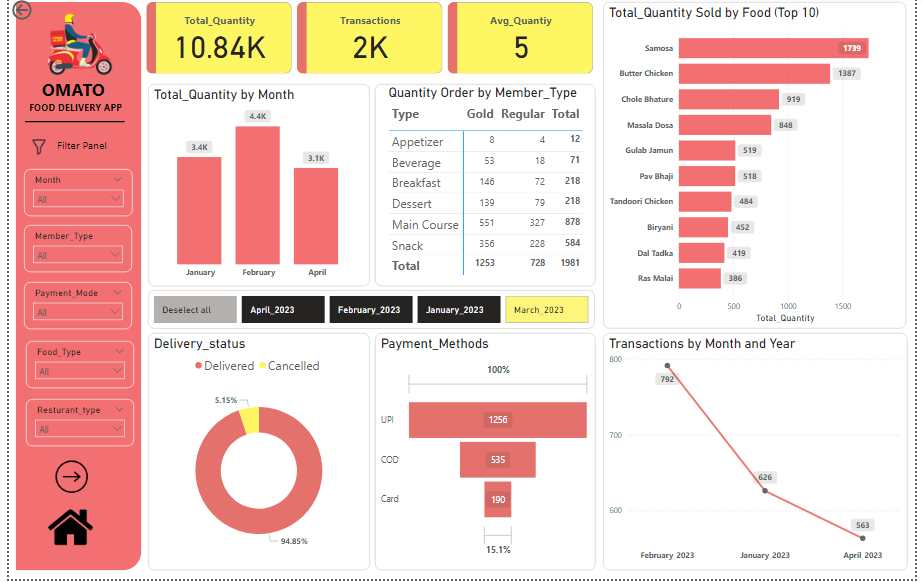

This screenshot's page, from the dashboard's own definition file:
{"tool":"powerbi","page":{"name":"Page 1","canvas":[1280,720],"ordinal":0},"visuals":[{"type":"shape","box":[8.1,8.1,166.3,701.2],"z":0},{"type":"image","box":[7.9,9,158.3,132.3],"z":1000},{"type":"textbox","box":[12.8,116.3,158.1,70.9],"z":2000},{"type":"shape","box":[12.8,173.3,158.1,29.1],"z":3000},{"type":"cardVisual","fields":{"Data":["Sales Data.Total_Quantity","Sales Data.Transactions","Sales Data.Avg_Quantity"]},"box":[181.4,9.3,539.5,103.5],"z":4000},{"type":"clusteredColumnChart","fields":{"Y":["Sales Data.Total_Quantity"],"Category":["Sales Data.orderDate.Variation.Date Hierarchy.Month"]},"box":[184.9,110.5,258.1,289.5],"z":5000},{"type":"pivotTable","title":"Transactions by Food type & Member Type","fields":{"Rows":["Food_Details.Type"],"Columns":["Customer Details.member_Type"],"Values":["Sales Data.Transactions"]},"box":[451.5,111.1,269,289.5],"z":6000},{"type":"donutChart","fields":{"Category":["Sales Data.deliver_status"],"Y":["Sales Data.Transactions"]},"box":[185.2,455.6,258,253.9],"z":7000},{"type":"funnel","fields":{"Category":["Sales Data.payment_method"],"Y":["Sales Data.Transactions"]},"box":[451.5,455.6,269,253.9],"z":8000},{"type":"clusteredBarChart","fields":{"Y":["Sales Data.Total_Quantity"],"Category":["Food_Details.Food"]},"box":[734.9,9.3,533.7,445.4],"z":9000},{"type":"lineChart","fields":{"Y":["Sales Data.Transactions"],"Category":["Sales Data.orderDate.Variation.Date Hierarchy.Year","Sales Data.orderDate.Variation.Date Hierarchy.Month"]},"box":[735.5,467.9,533.8,241.5],"z":10000},{"type":"slicer","fields":{"Values":["Sales Data.orderDate.Variation.Date Hierarchy.Month"]},"box":[20.6,231.9,141.3,76.8],"z":11000},{"type":"slicer","fields":{"Values":["Customer Details.member_Type"]},"box":[20.6,323.8,141.3,76.8],"z":12000},{"type":"slicer","fields":{"Values":["Sales Data.payment_method"]},"box":[20.6,417.2,141.3,76.8],"z":13000},{"type":"slicer","fields":{"Values":["Resturant_Details.Resturant_type"]},"box":[20.6,511.8,141.3,76.8],"z":14000},{"type":"slicer","fields":{"Values":["Sales Data.orderDate.Variation.Date Hierarchy.Month"]},"box":[180.9,402.5,539.3,53.1],"z":15000},{"type":"image","box":[24.7,194.9,37,31.6],"z":16000},{"type":"textbox","box":[61.7,194.9,123.5,37],"z":17000},{"type":"image","box":[43.9,649.1,64.5,60.4],"z":18000},{"type":"image","box":[46.7,587.3,67.2,67.2],"z":18001}]}

Visuals, with their boxes in screenshot pixels (x1, y1, x2, y2):
shape: {"left": 15, "top": 13, "right": 133, "bottom": 511}
image: {"left": 15, "top": 14, "right": 128, "bottom": 108}
textbox: {"left": 19, "top": 90, "right": 131, "bottom": 140}
shape: {"left": 19, "top": 130, "right": 131, "bottom": 151}
cardVisual - Sales Data.Total_Quantity x Sales Data.Transactions: {"left": 138, "top": 14, "right": 522, "bottom": 87}
clusteredColumnChart - Sales Data.Total_Quantity x Sales Data.orderDate.Variation.Date Hierarchy.Month: {"left": 141, "top": 86, "right": 324, "bottom": 291}
"Transactions by Food type & Member Type" pivotTable: {"left": 330, "top": 86, "right": 521, "bottom": 292}
donutChart - Sales Data.deliver_status x Sales Data.Transactions: {"left": 141, "top": 331, "right": 324, "bottom": 511}
funnel - Sales Data.payment_method x Sales Data.Transactions: {"left": 330, "top": 331, "right": 521, "bottom": 511}
clusteredBarChart - Sales Data.Total_Quantity x Food_Details.Food: {"left": 532, "top": 14, "right": 911, "bottom": 330}
lineChart - Sales Data.Transactions x Sales Data.orderDate.Variation.Date Hierarchy.Year: {"left": 532, "top": 340, "right": 911, "bottom": 511}
slicer - Sales Data.orderDate.Variation.Date Hierarchy.Month: {"left": 24, "top": 172, "right": 125, "bottom": 226}
slicer - Customer Details.member_Type: {"left": 24, "top": 237, "right": 125, "bottom": 292}
slicer - Sales Data.payment_method: {"left": 24, "top": 304, "right": 125, "bottom": 358}
slicer - Resturant_Details.Resturant_type: {"left": 24, "top": 371, "right": 125, "bottom": 425}
slicer - Sales Data.orderDate.Variation.Date Hierarchy.Month: {"left": 138, "top": 293, "right": 521, "bottom": 331}
image: {"left": 27, "top": 146, "right": 53, "bottom": 168}
textbox: {"left": 53, "top": 146, "right": 141, "bottom": 172}
image: {"left": 41, "top": 468, "right": 87, "bottom": 511}
image: {"left": 43, "top": 424, "right": 91, "bottom": 472}
